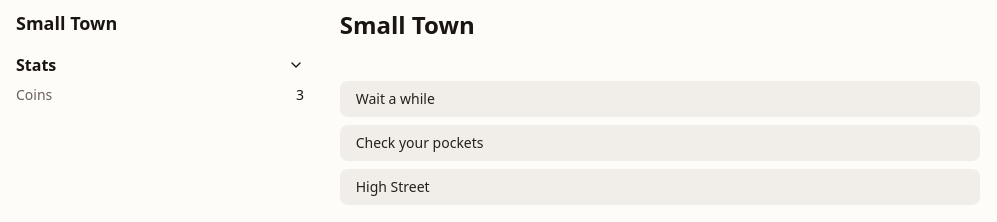
Test case: sections › fold, and the player’s choice is remembered in the profile
The width and height of the screenshot is (997, 222).
Later steps or results of the test are not shown.
Check: the text "Coins" is shown, box x1=16 y1=85 x2=52 y2=104
Click the button "Stats": (36, 65) x1=16 y1=53 x2=304 y2=77
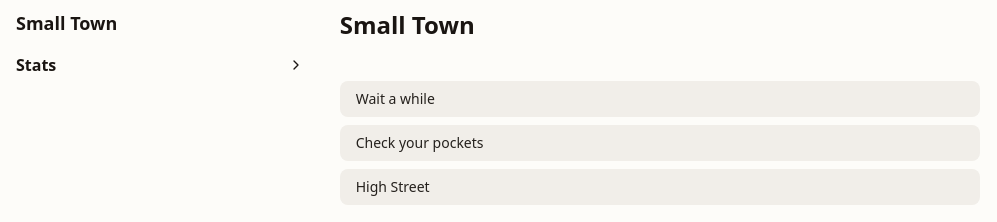
Check: the button "Stats" is collapsed, box x1=16 y1=53 x2=304 y2=77
